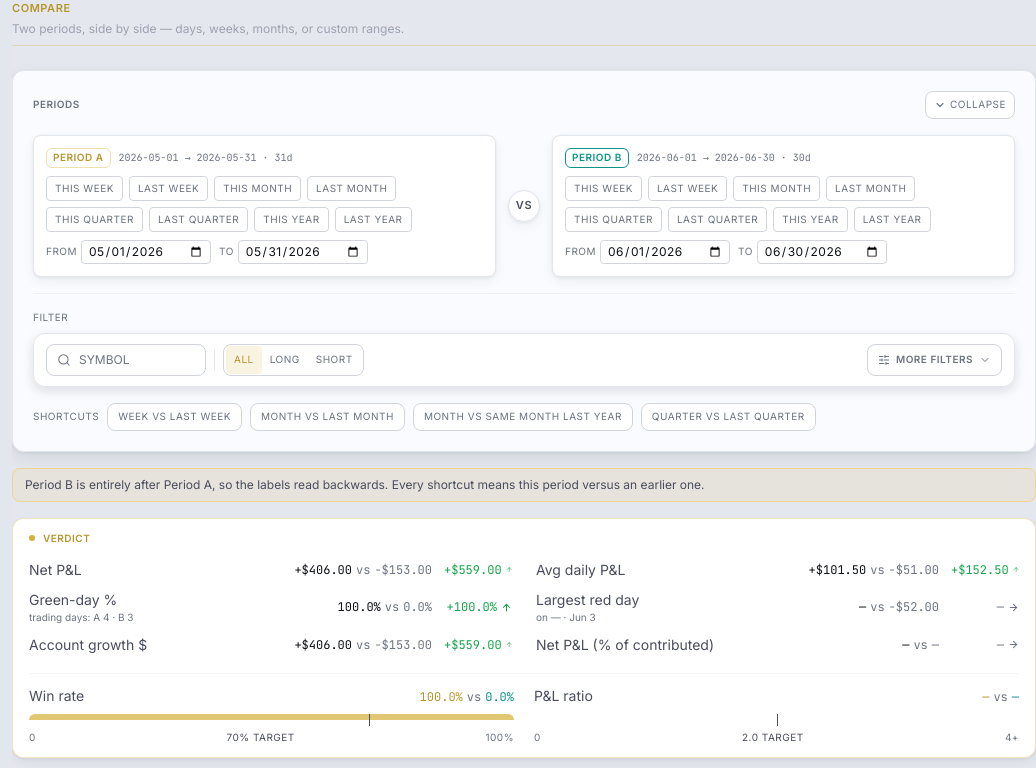
Test case: AnalyticsCompareTab — the full filter bar › the symbol control narrows the rows BOTH periods compute from
The width and height of the screenshot is (1036, 768).
Type "AAAA" into the field with placeholder "Symbol". click: (137,360)
box: [79,352,195,368]
(page scrolled)
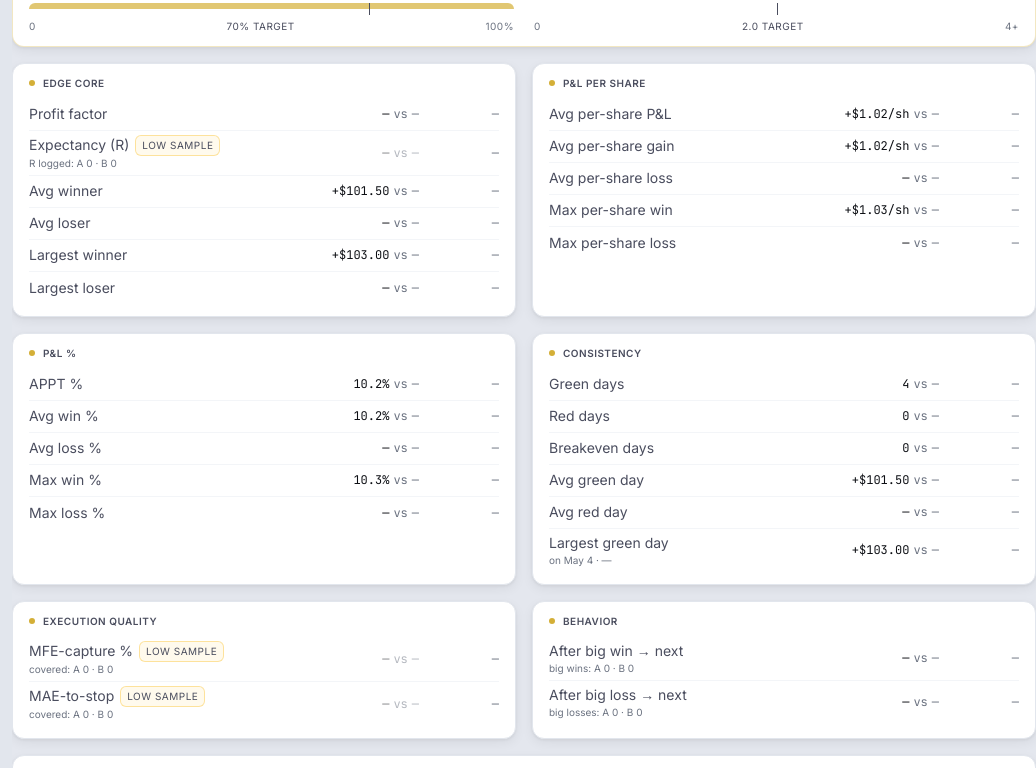
Expected: the element showing "4vs—" is shown, [902,376,939,392]
